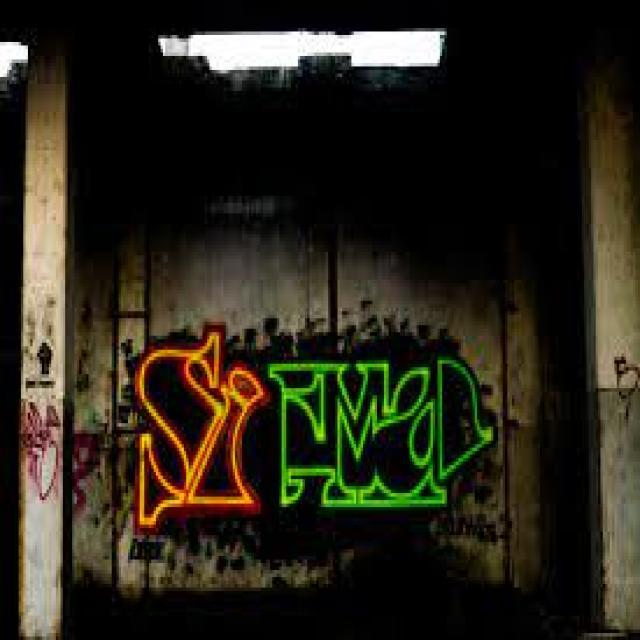-: (131, 326, 501, 526), (20, 334, 60, 506), (72, 348, 106, 526)
